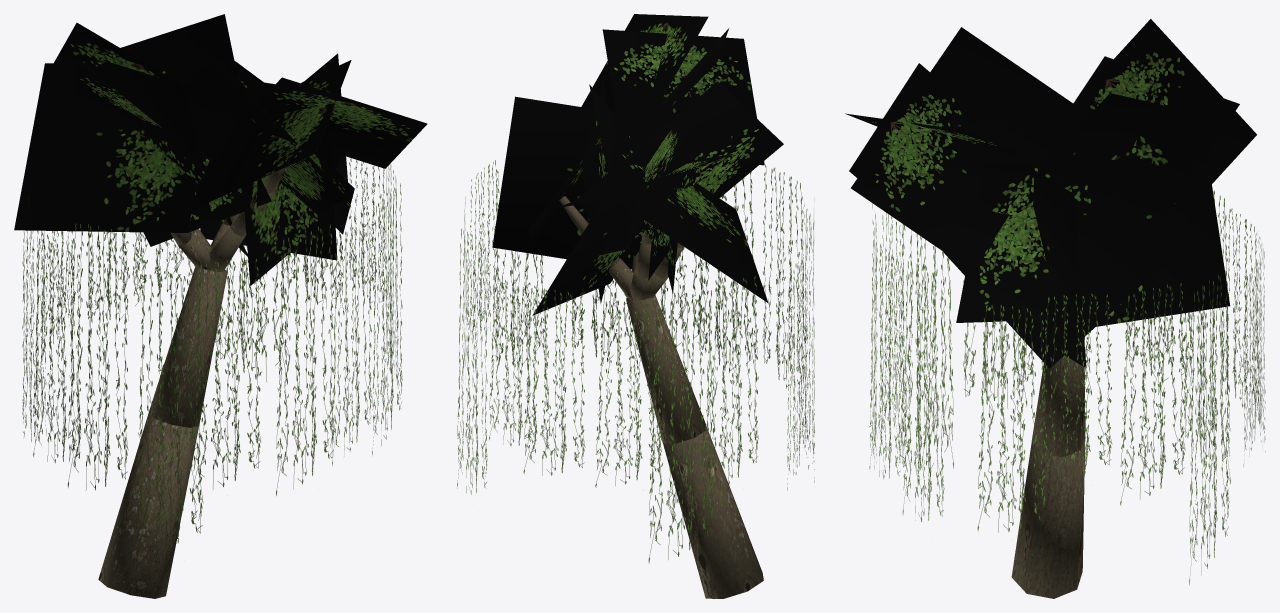
File: willow.glb
The picture shows the model from 3 angles, left to right: view 1: azimuth 30°, elevation 25°; view 2: azimuth 150°, elevation 25°; view 3: azimuth 270°, elevation 25°; orthographic projection. The views are drawn at different scales.
Visible parts, largest first — view 1: canopy, strands, bark; view 2: canopy, strands, bark; view 3: canopy, strands, bark.
Part boxes in pixels (x1=…): canopy: x1=14, y1=14, x2=427, y2=285; strands: x1=22, y1=158, x2=402, y2=548; bark: x1=98, y1=168, x2=284, y2=598; canopy: x1=492, y1=14, x2=783, y2=315; strands: x1=457, y1=160, x2=814, y2=563; bark: x1=559, y1=196, x2=763, y2=598; canopy: x1=845, y1=19, x2=1256, y2=368; strands: x1=869, y1=190, x2=1265, y2=584; bark: x1=1011, y1=337, x2=1085, y2=598.
Size of the model in its own units: 3.53 by 5.65 by 3.71.
Materials: 3 (3 with a texture image).
